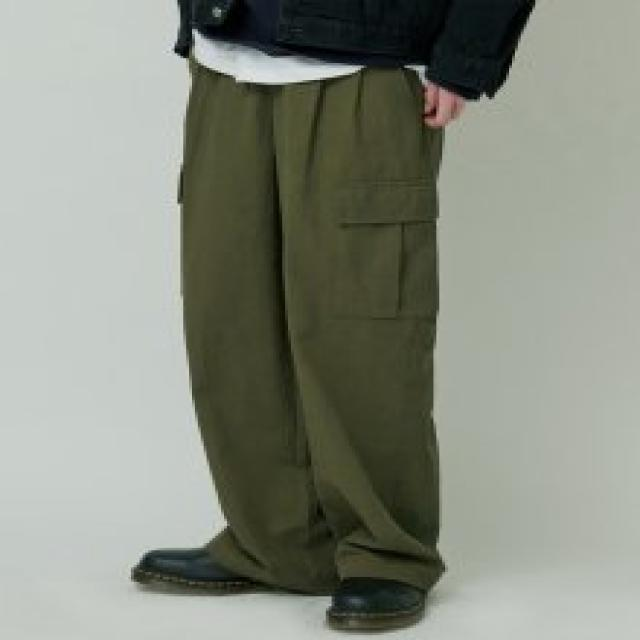long-pants: (176, 61, 447, 596)
